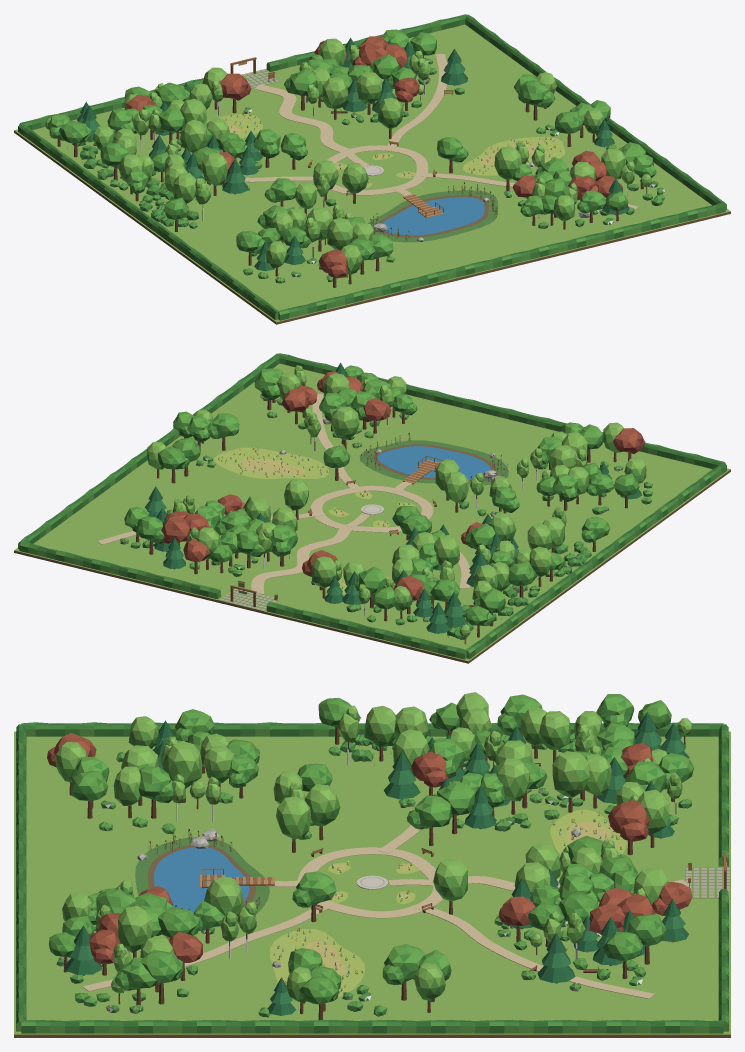
Rendered from Park_Level0_FullNature.fbx.
The picture shows the model from 3 angles, top to bottom: view 1: azimuth 30°, elevation 25°; view 2: azimuth 150°, elevation 25°; view 3: azimuth 270°, elevation 25°; orthographic projection. The views are drawn at different scales.
Visible parts, largest first — view 1: Park_LV_Ground_01, Park_LV_Pond_Water_Natural, Park_LV_Meadow_West, Park_LV_Pond_Edge_North, Park_LV_Tree_Oak_45, Park_LV_Tree_Linden_13, Park_LV_Tree_Linden_28, Park_LV_Tree_Linden_04, Park_LV_Tree_Linden_03, Park_LV_Tree_Linden_15, Park_LV_Tree_CopperBeech_07, Park_LV_Tree_Linden_18 (+27 smaller); view 2: Park_LV_Ground_01, Park_LV_Meadow_West, Park_LV_Pond_Water_Natural, Park_LV_Pond_Edge_North, Park_LV_Tree_Linden_28, Park_LV_Tree_Oak_10, Park_LV_Tree_Oak_49, Park_LV_Tree_Linden_08, Park_LV_Tree_Oak_41, Park_LV_Tree_Linden_29, Park_LV_Tree_Linden_02, Park_LV_EntrancePlaza_01 (+25 smaller); view 3: Park_LV_Ground_01, Park_LV_Pond_Water_Natural, Park_LV_Meadow_West, Park_LV_Meadow_SouthEast, Park_LV_Tree_Linden_11, Park_LV_Pond_Edge_North, Park_LV_Tree_CopperBeech_07, Park_LV_Tree_Oak_45, Park_LV_Tree_Linden_16, Park_LV_Tree_Linden_25, Park_LV_Tree_Linden_01, Park_LV_Tree_Oak_01 (+78 smaller).
Boxes of the visible parts, x1,y1,x2,y2 form: Park_LV_Ground_01: (14, 24, 730, 324); Park_LV_Pond_Water_Natural: (381, 197, 484, 235); Park_LV_Meadow_West: (462, 137, 565, 175); Park_LV_Pond_Edge_North: (368, 191, 498, 242); Park_LV_Tree_Oak_45: (520, 80, 555, 120); Park_LV_Tree_Linden_13: (201, 153, 227, 195); Park_LV_Tree_Linden_28: (494, 146, 521, 190); Park_LV_Tree_Linden_04: (322, 77, 348, 119); Park_LV_Tree_Linden_03: (356, 72, 382, 114); Park_LV_Tree_Linden_15: (180, 119, 207, 152); Park_LV_Tree_CopperBeech_07: (219, 73, 251, 113); Park_LV_Tree_Linden_18: (327, 217, 353, 250); Park_LV_Ground_01: (14, 363, 730, 663); Park_LV_Meadow_West: (214, 447, 328, 478); Park_LV_Pond_Water_Natural: (377, 446, 491, 479); Park_LV_Pond_Edge_North: (359, 440, 508, 485); Park_LV_Tree_Linden_28: (331, 406, 359, 449); Park_LV_Tree_Oak_10: (271, 524, 297, 566); Park_LV_Tree_Oak_49: (207, 413, 239, 450); Park_LV_Tree_Linden_08: (311, 556, 336, 598); Park_LV_Tree_Oak_41: (254, 368, 281, 410); Park_LV_Tree_Linden_29: (444, 471, 468, 512); Park_LV_Tree_Linden_02: (284, 478, 308, 519); Park_LV_EntrancePlaza_01: (219, 588, 280, 611); Park_LV_Ground_01: (14, 731, 730, 1037); Park_LV_Pond_Water_Natural: (154, 847, 249, 913); Park_LV_Meadow_West: (270, 929, 364, 996); Park_LV_Meadow_SouthEast: (550, 809, 626, 854); Park_LV_Tree_Linden_11: (552, 751, 589, 812); Park_LV_Pond_Edge_North: (135, 837, 238, 926); Park_LV_Tree_CopperBeech_07: (608, 800, 650, 855); Park_LV_Tree_Oak_45: (382, 944, 426, 1000); Park_LV_Tree_Linden_16: (162, 741, 202, 802); Park_LV_Tree_Linden_25: (118, 905, 152, 957); Park_LV_Tree_Linden_01: (276, 796, 311, 852); Park_LV_Tree_Oak_01: (292, 871, 336, 922).
Size of the model in its own units: 100 by 9.34 by 100.
